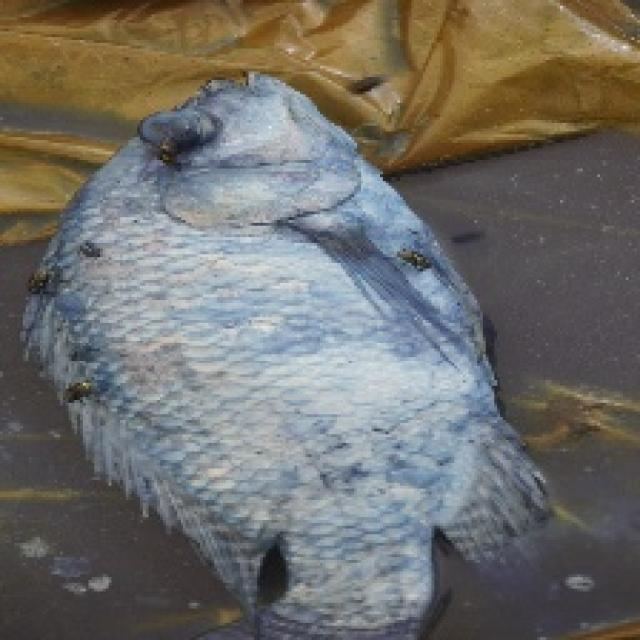Non-Fresh: (48, 54, 498, 630)
